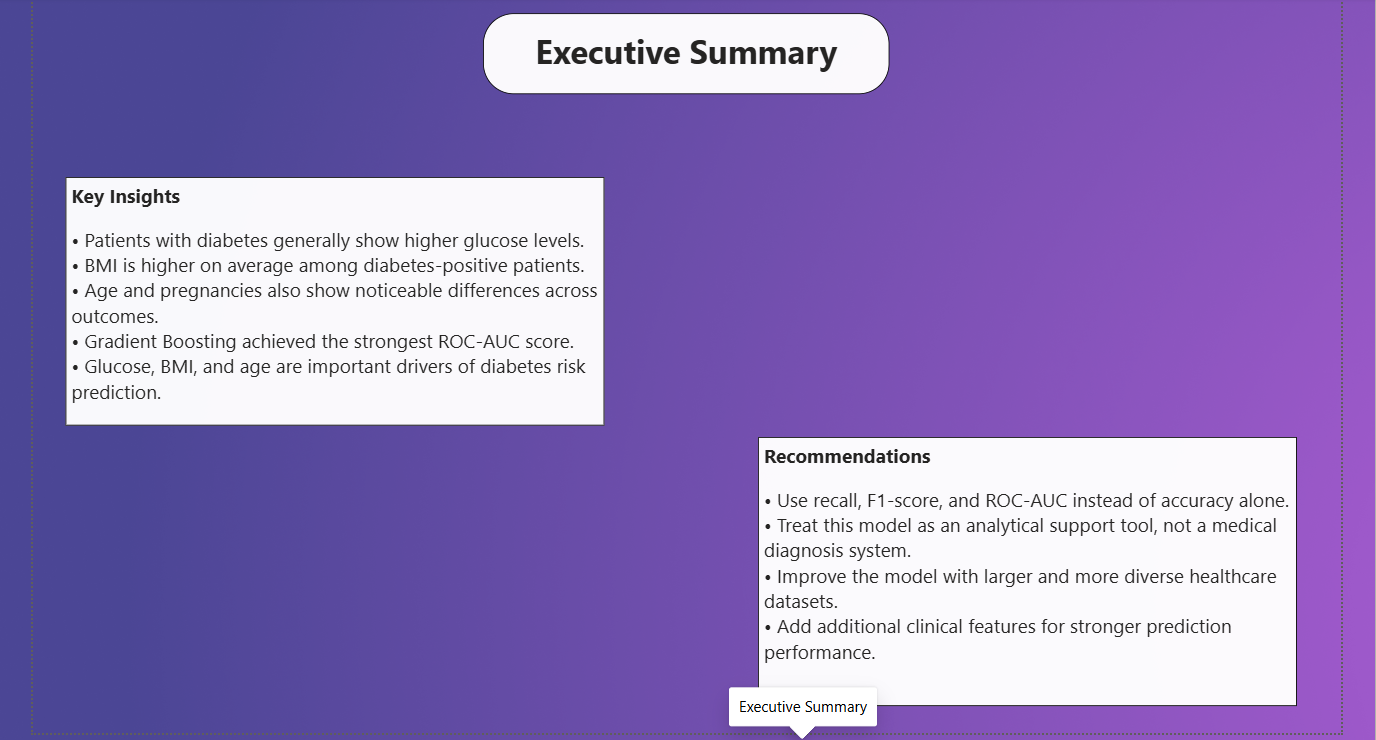

Layout of this report page (visuals, bound fields, positions):
{"tool":"powerbi","page":{"name":"Executive Summary","canvas":[1280,720],"ordinal":3},"visuals":[{"type":"textbox","box":[440.5,16.5,397.9,79.6],"z":0},{"type":"textbox","box":[31.6,175.6,526.9,242.9],"z":1},{"type":"textbox","box":[709.4,430.9,526.9,263.5],"z":2}]}

Visuals, with their boxes in screenshot pixels (x1, y1, x2, y2):
textbox: x1=483, y1=13, x2=888, y2=94
textbox: x1=68, y1=175, x2=603, y2=422
textbox: x1=757, y1=434, x2=1292, y2=702
